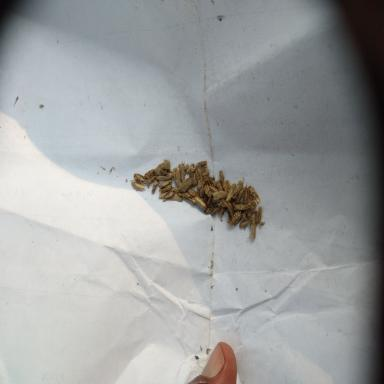pbw: (228, 210, 242, 227), (177, 178, 194, 192), (248, 186, 260, 204), (232, 180, 243, 199), (234, 200, 252, 211), (226, 183, 236, 202), (134, 173, 149, 185), (197, 172, 207, 190), (173, 167, 181, 186), (131, 182, 146, 192), (195, 197, 207, 209), (212, 191, 228, 200), (162, 190, 175, 201), (188, 187, 200, 198), (158, 184, 172, 193), (239, 218, 251, 228), (217, 198, 230, 207), (243, 181, 248, 204), (204, 205, 218, 213), (183, 197, 197, 205), (227, 202, 235, 216), (188, 162, 195, 178), (242, 205, 253, 215), (204, 165, 210, 183), (256, 206, 262, 224), (179, 164, 185, 182), (159, 179, 172, 187), (145, 168, 155, 178), (208, 183, 219, 192), (151, 180, 158, 194), (171, 193, 183, 201), (158, 190, 170, 198), (216, 180, 224, 192), (204, 184, 211, 197), (250, 221, 255, 239), (148, 174, 157, 184), (218, 170, 224, 185), (212, 204, 220, 215), (209, 176, 217, 187), (178, 192, 192, 198), (197, 160, 207, 167), (196, 166, 200, 182), (166, 170, 174, 178), (171, 186, 179, 193), (246, 216, 255, 222), (156, 176, 169, 180), (225, 180, 231, 188)
